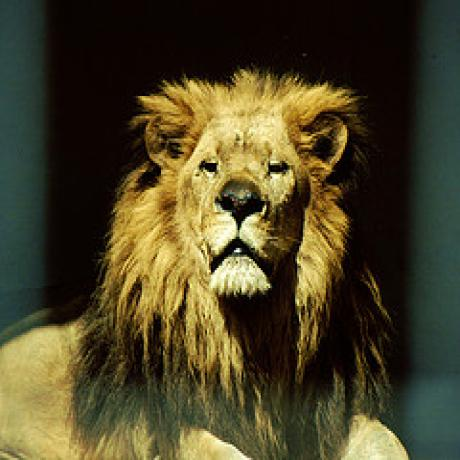Lion: (0, 60, 404, 460)
